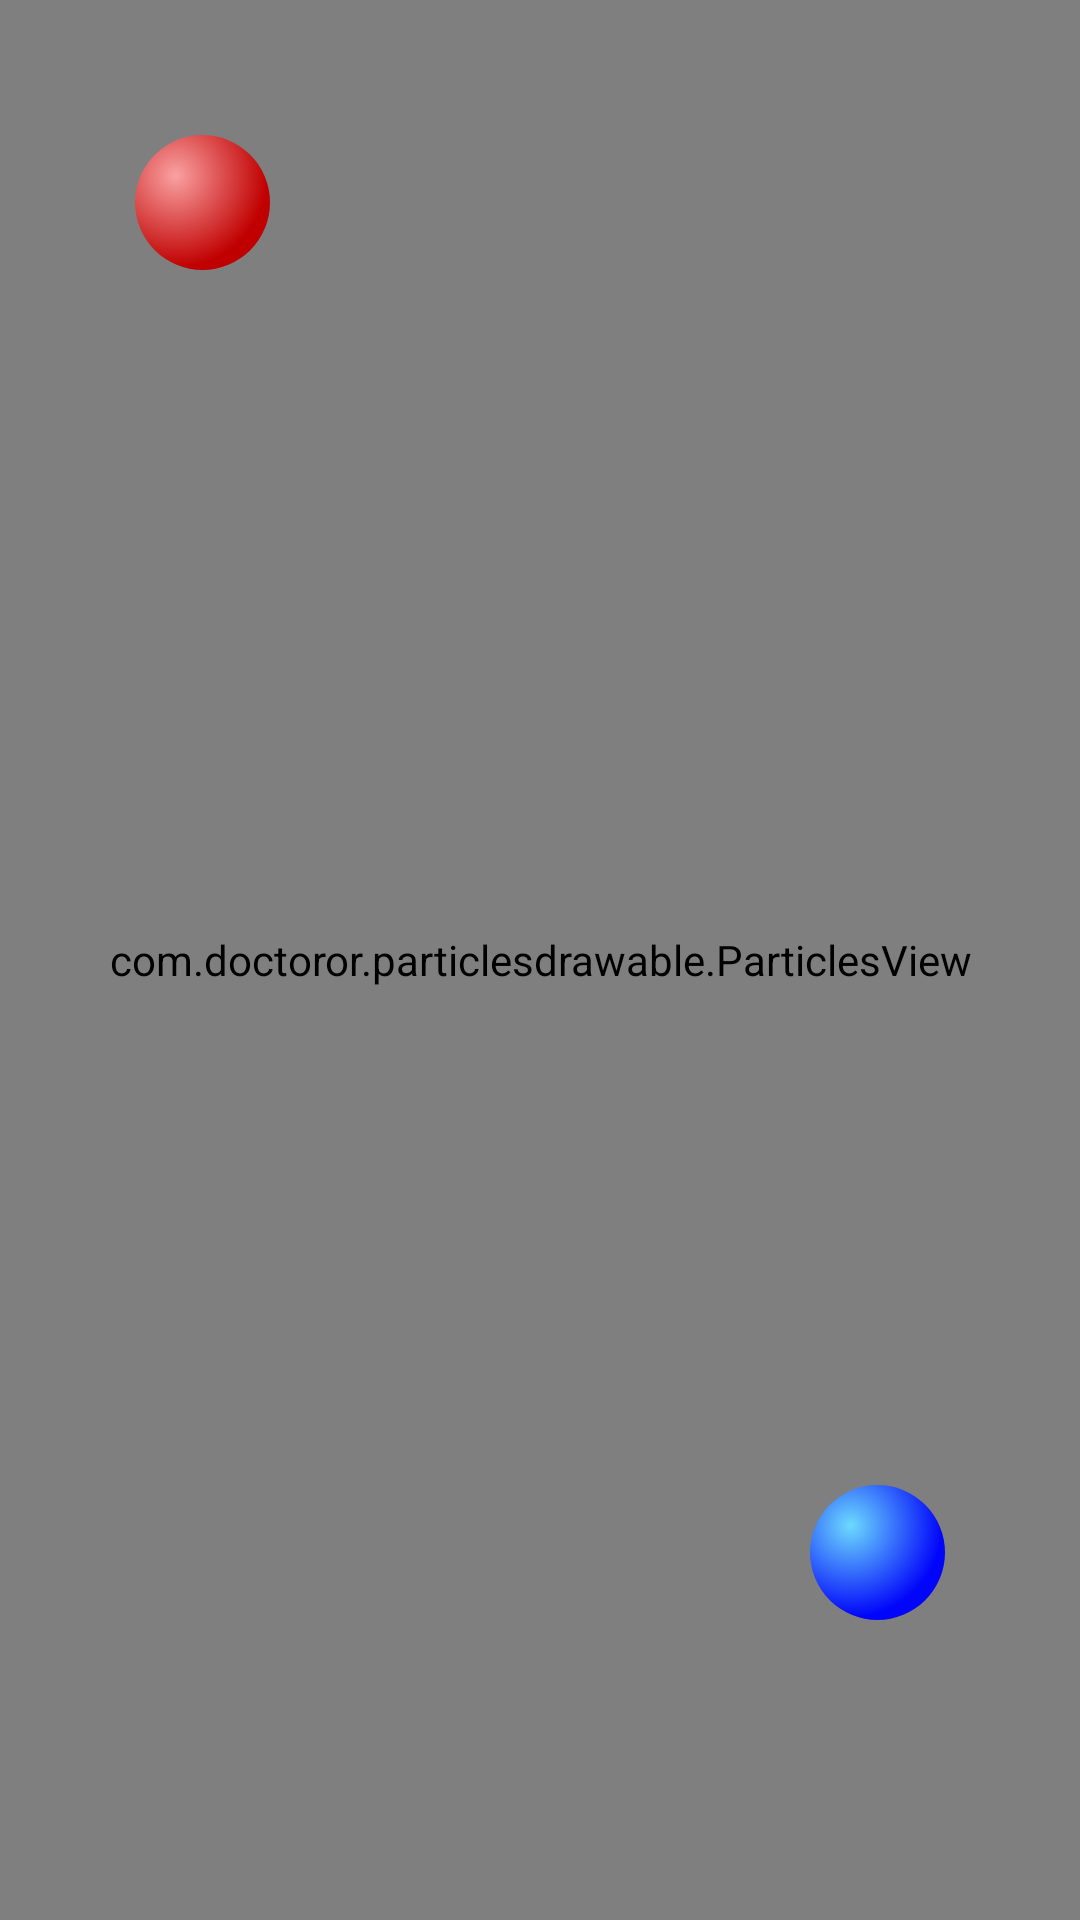

Screen size 1080px x 1920px. Icon name, then its center in pixels as [x,y]:
ciruculo azul: [877,1552]
ciruculo rojo: [202,202]
